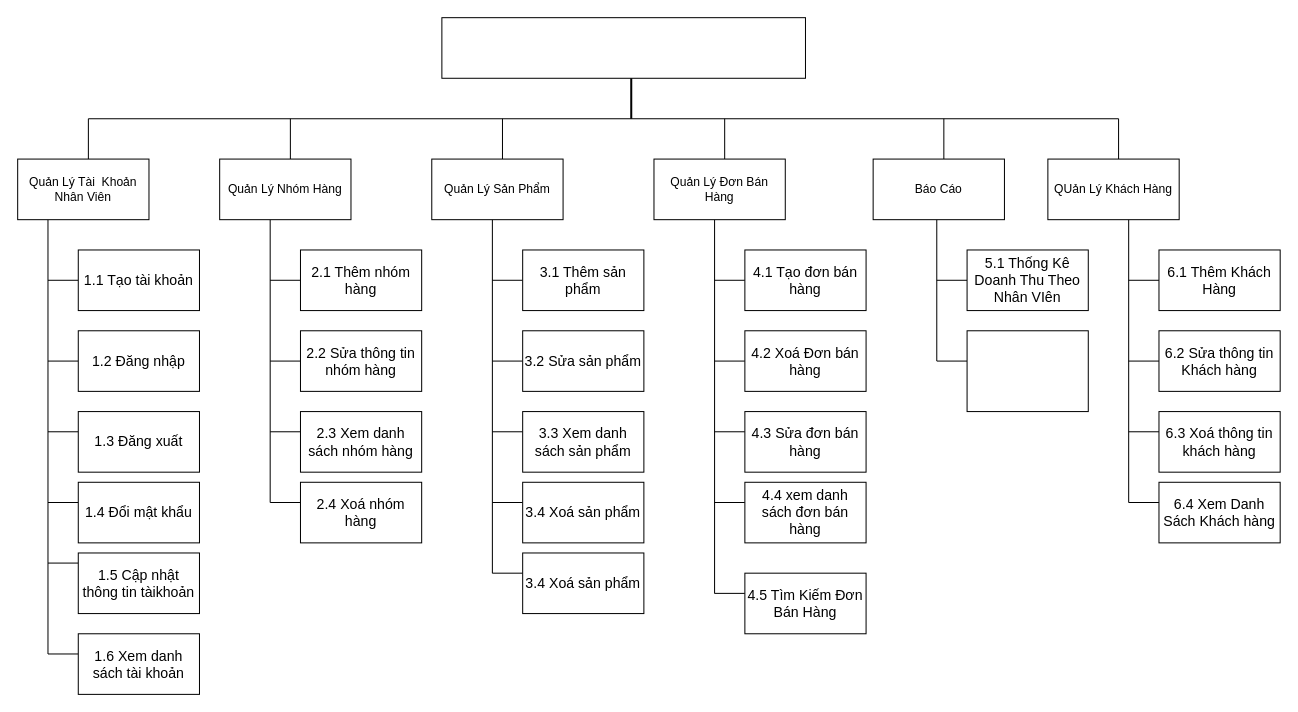
Image size: 1298x712. Some labels were removed from this diagram. The shapes that lost their labels are listed below. From the top down, each one's box as (x1, y1, x2, y2) in pixels, then its label:
(441, 17, 805, 78): Quản Lý Bán Hàng Cửa Hàng Tạp Hoá BEE MART
(966, 330, 1088, 412): 5.1 Thống Kê Doanh Thu Theo Nhân Viên và Thời Gian
